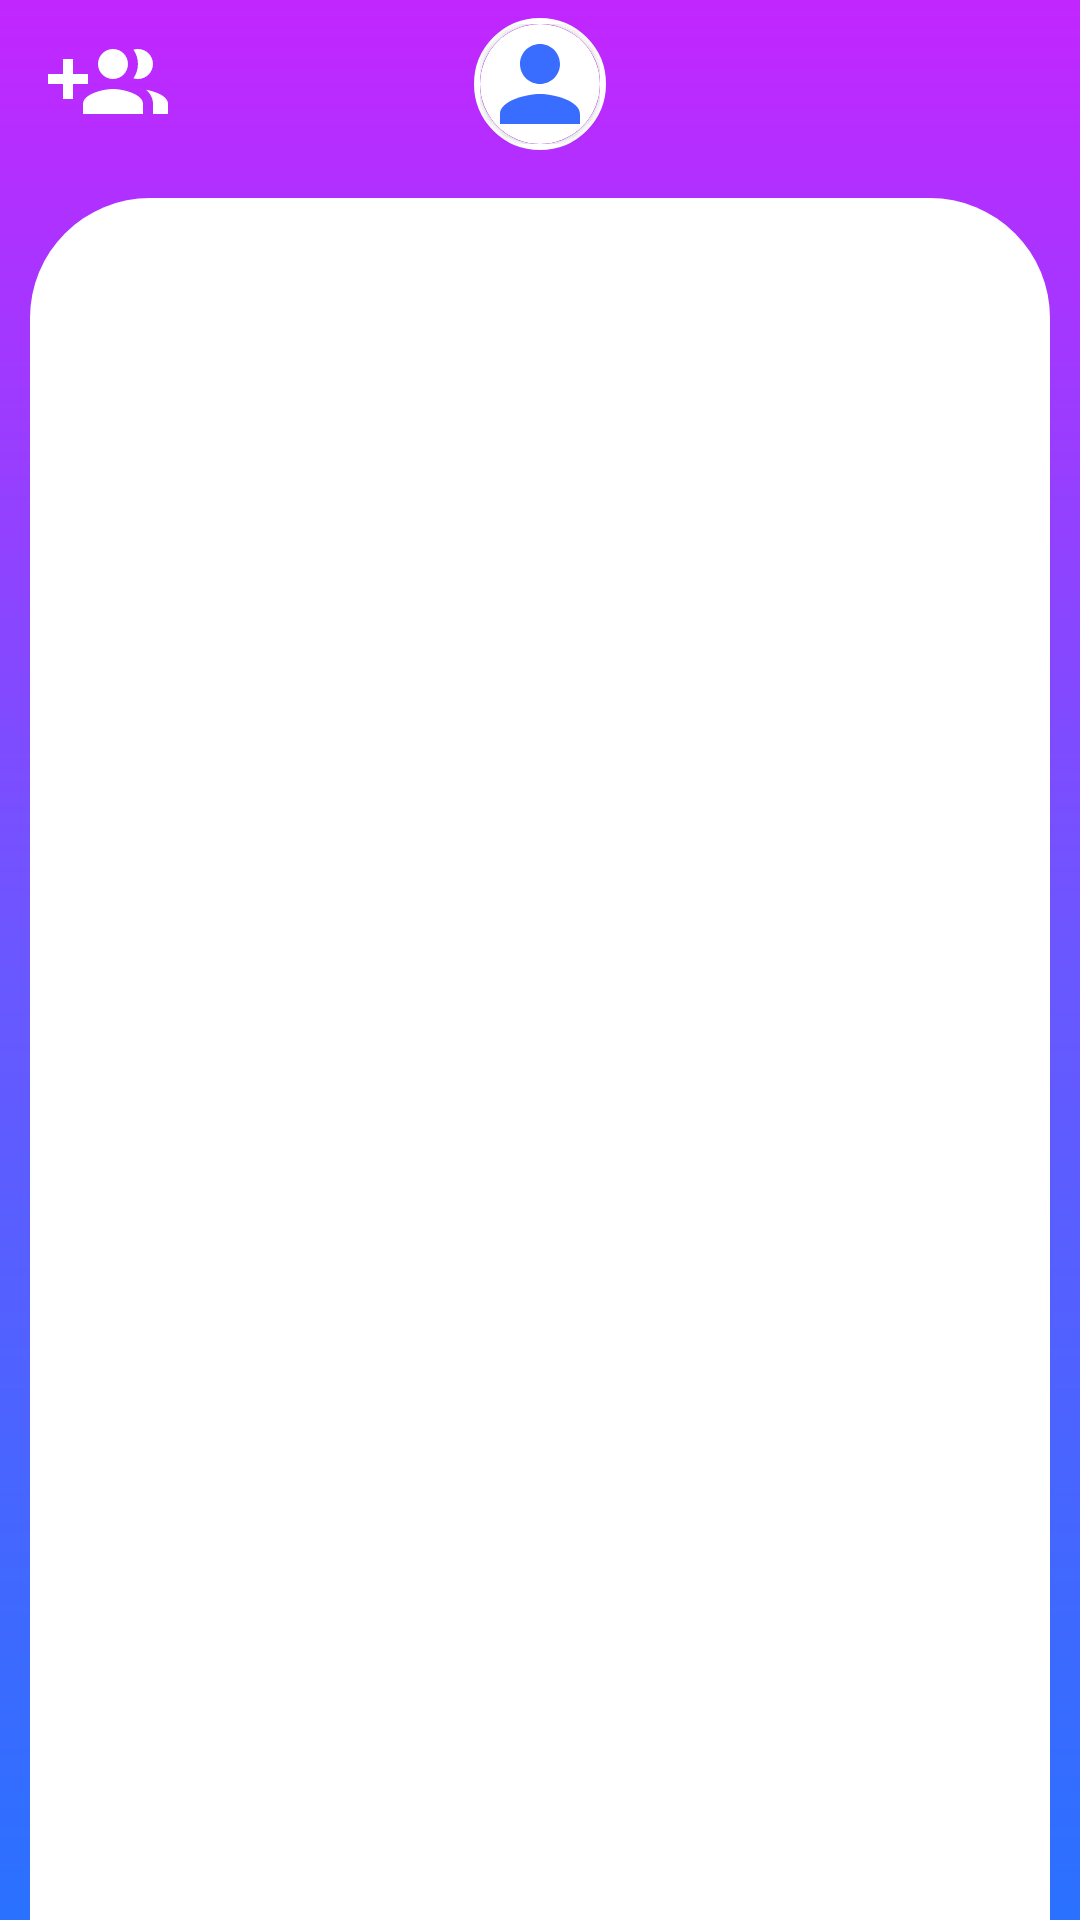

Named icons in this screenshot (1080 x 1920) and their centers, [x,y]:
group add: [108,81]
